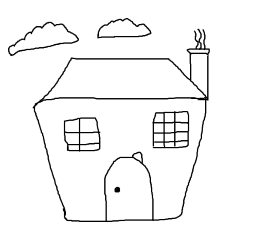closed_window: (152, 110, 189, 148), (64, 116, 100, 149)
clouds: (7, 20, 79, 57), (96, 18, 153, 41)
door: (98, 152, 159, 225)
roof: (33, 56, 208, 105)
smoking_chimney: (179, 24, 217, 101)
wall: (33, 97, 208, 222)
